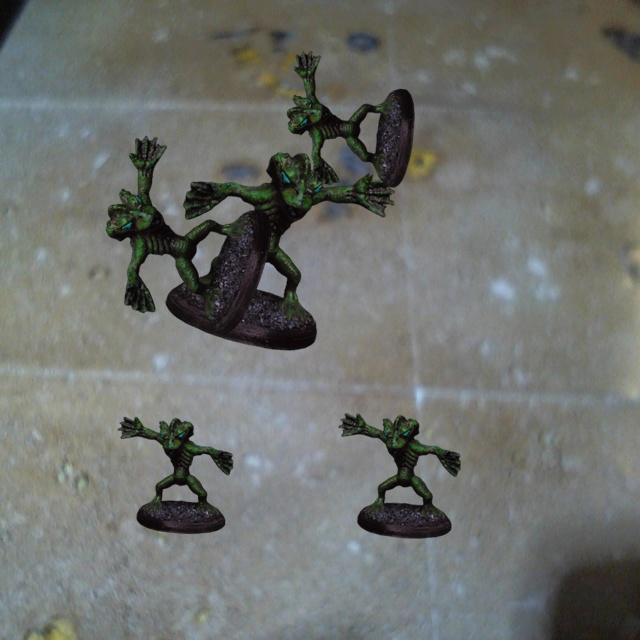pieza_juego: (165, 152, 394, 350), (105, 136, 271, 334), (287, 51, 414, 187), (338, 413, 460, 538), (118, 417, 232, 533)
